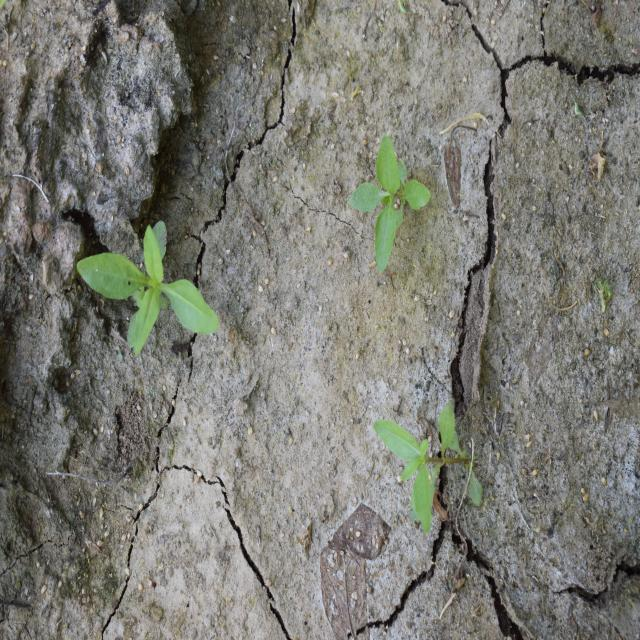Eclipta: (76, 219, 220, 359), (371, 398, 485, 534), (347, 135, 432, 274)
